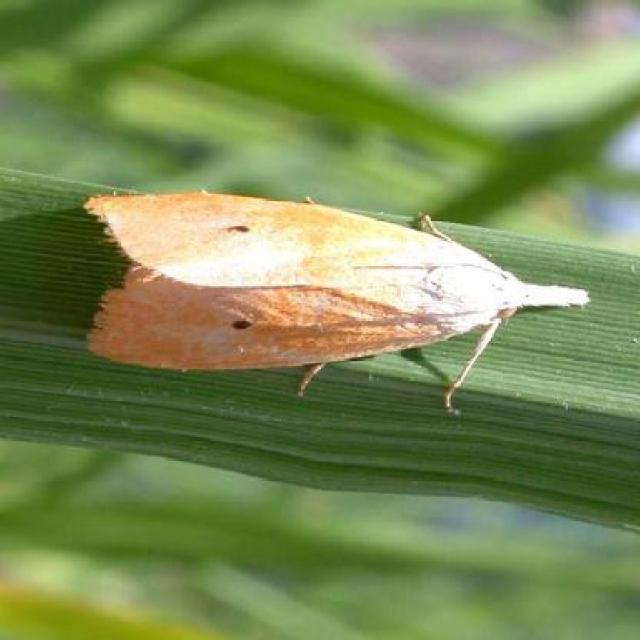stem-borer: (77, 188, 595, 402)
